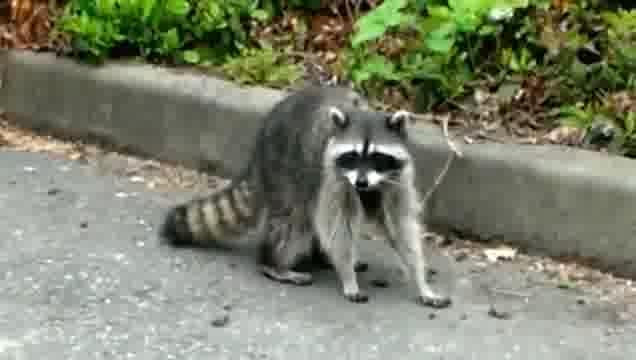raccoon: (161, 86, 455, 310)
